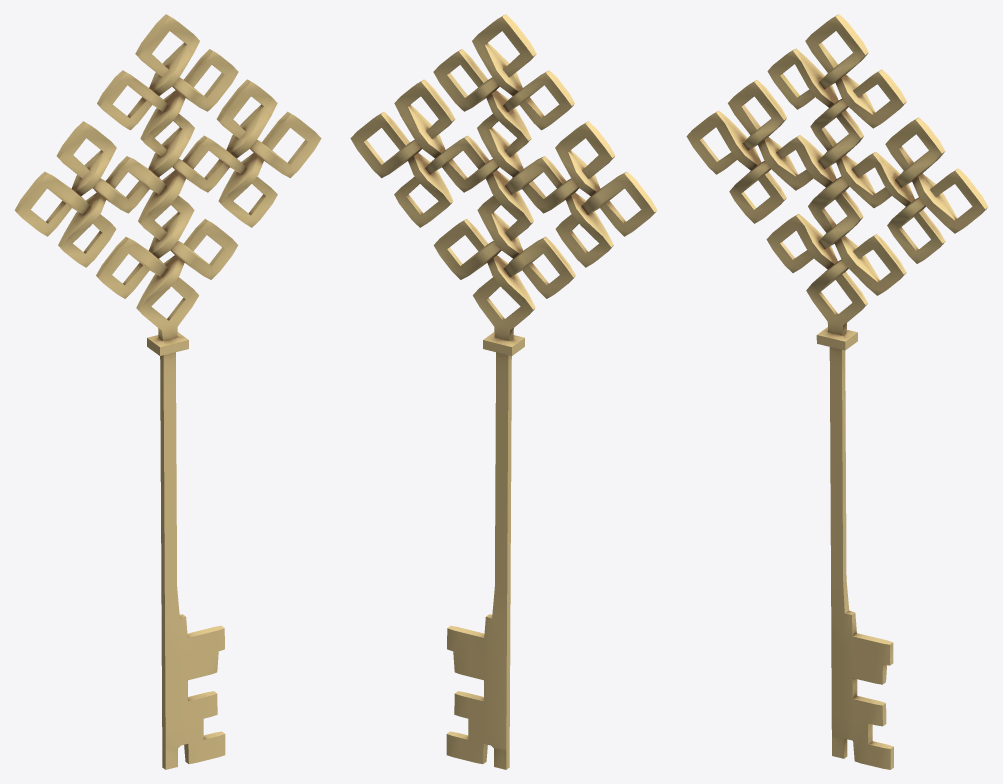
Rendered from key_01_medieval_gold.glb.
3 views of the same model, side by side, from view 1: azimuth 30°, elevation 25°; view 2: azimuth 150°, elevation 25°; view 3: azimuth 330°, elevation 25° (orthographic).
Parts seen in each view (by area): view 1: Key; view 2: Key; view 3: Key.
Part boxes in pixels (x1,y1,x2,y2): Key: (14, 14, 321, 769); Key: (350, 14, 657, 769); Key: (686, 14, 988, 769).
Size of the model in its own units: 0.0634 by 0.15 by 0.00471.
Materials: 1 (1 with a texture image).
